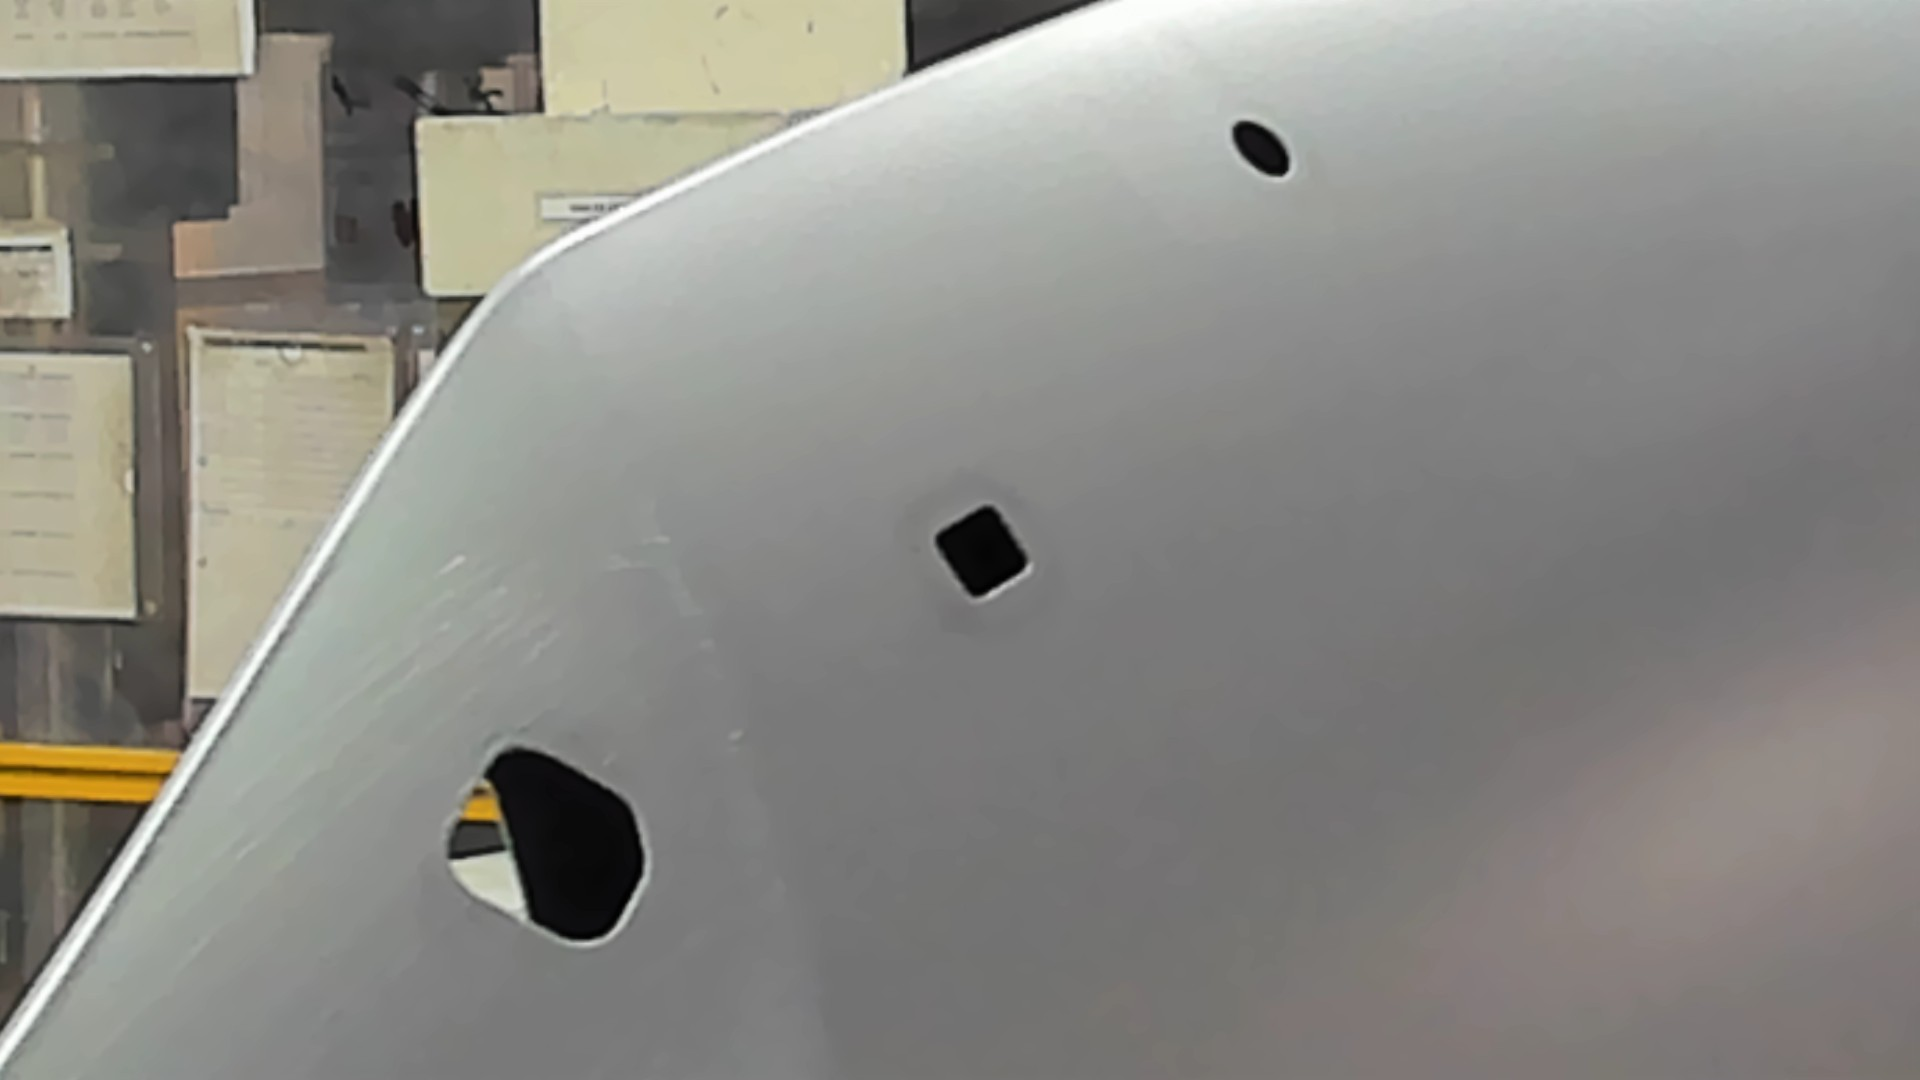chico: (1229, 116, 1292, 179)
grande: (442, 742, 653, 953)
mediano: (931, 502, 1035, 603)
